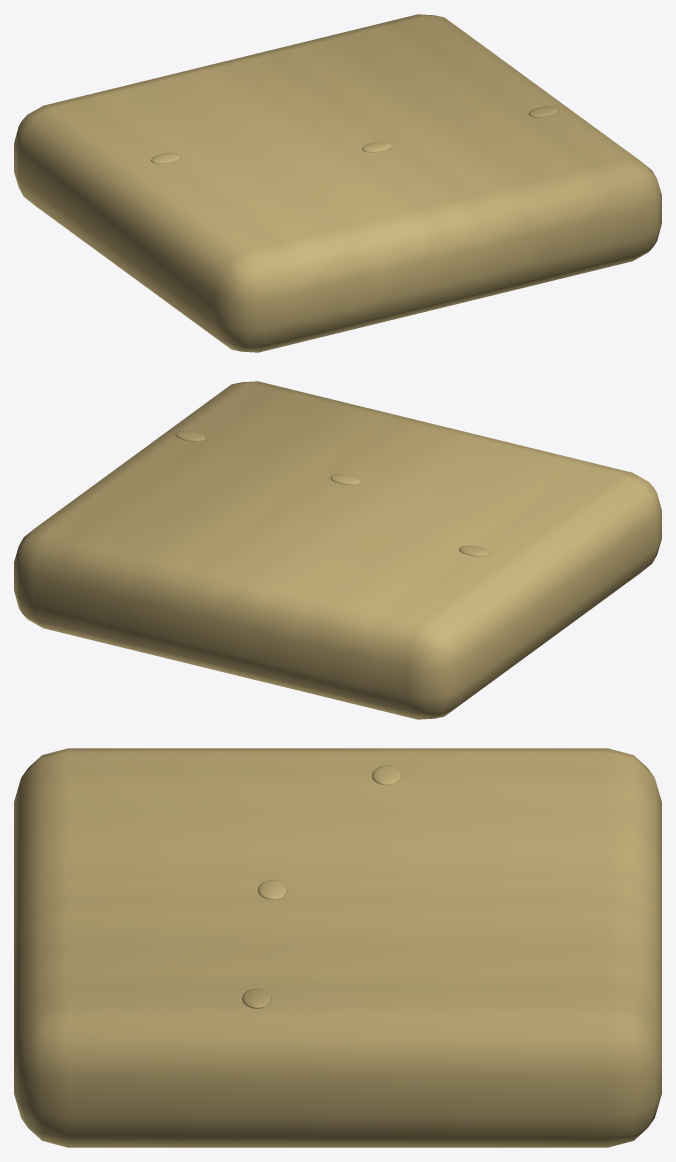
The model's file is Tile_0.fbx.
3 renders of one model, top to bottom at view 1: azimuth 30°, elevation 25°; view 2: azimuth 150°, elevation 25°; view 3: azimuth 270°, elevation 25°, orthographic. The views are drawn at different scales.
Parts seen in each view (by area): view 1: Tile_0; view 2: Tile_0; view 3: Tile_0.
Part boxes in pixels (x1,y1,x2,y2): Tile_0: (14,14,661,352); Tile_0: (14,381,661,719); Tile_0: (14,748,661,1147).
Size of the model in its own units: 98 by 21.5 by 90.
Materials: 1 (1 with a texture image).
